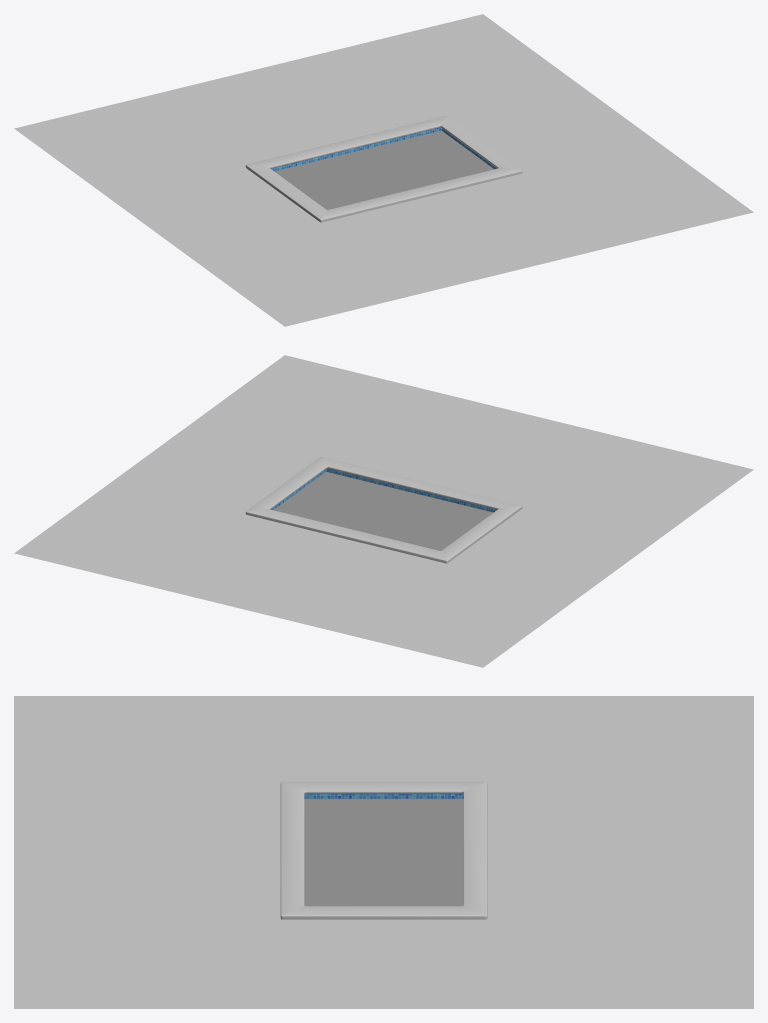
Rendered from Pool.FBX.
3 views of the same model, one above another, from view 1: azimuth 30°, elevation 25°; view 2: azimuth 150°, elevation 25°; view 3: azimuth 270°, elevation 25° (orthographic). The views are drawn at different scales.
Visible parts, largest first — view 1: Floor, Ice surface, Curb, Pool tessellated; view 2: Floor, Ice surface, Curb, Pool tessellated; view 3: Floor, Ice surface, Curb, Pool tessellated.
Part boxes in pixels (box(x1,y1,x2,y2)): Floor: box(14, 14, 753, 326); Ice surface: box(275, 131, 493, 209); Curb: box(245, 116, 522, 222); Pool tessellated: box(271, 127, 496, 171); Floor: box(14, 355, 753, 667); Ice surface: box(274, 472, 492, 550); Curb: box(245, 457, 522, 563); Pool tessellated: box(271, 468, 496, 512); Floor: box(14, 696, 753, 1008); Ice surface: box(304, 799, 463, 906); Curb: box(280, 781, 487, 919); Pool tessellated: box(304, 794, 463, 799).
Size of the model in its own units: 652 by 652 by 74.13.
